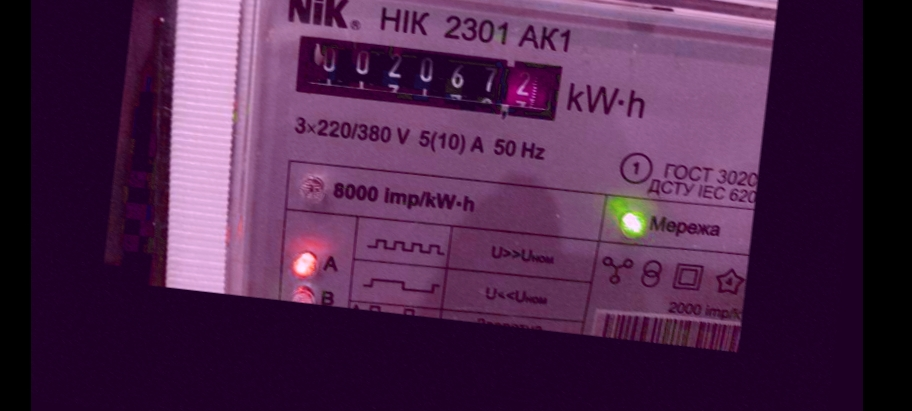0: (319, 44, 340, 75), (416, 53, 437, 83), (353, 46, 373, 76)
2: (514, 67, 535, 98), (386, 49, 406, 80)
6: (448, 59, 469, 90)
7: (481, 63, 500, 95)
screen: (279, 21, 579, 135)
